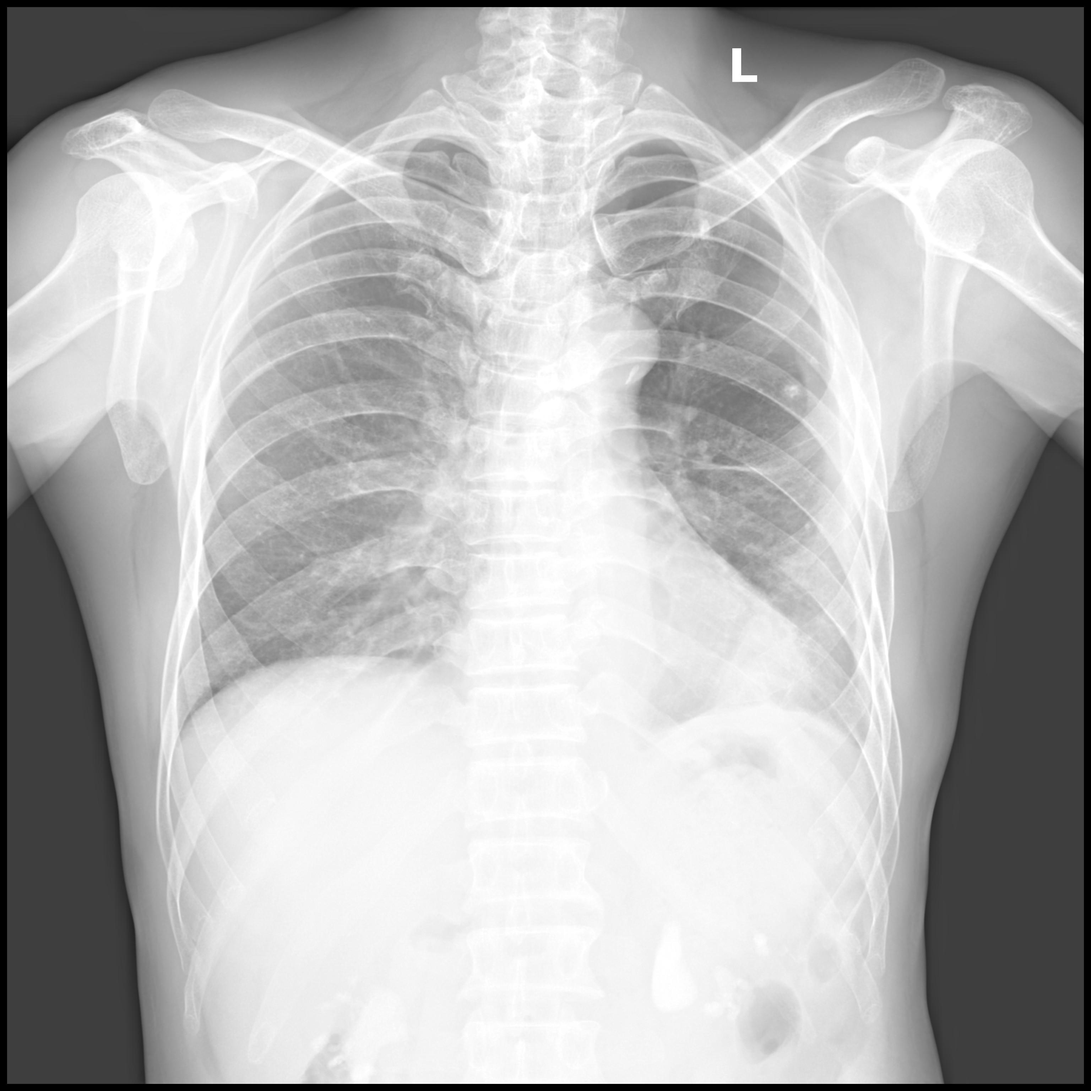Aortic enlargement: (564, 295, 658, 382)
Cardiomegaly: (437, 571, 823, 706)
Pulmonary fibrosis: (689, 443, 807, 477)
